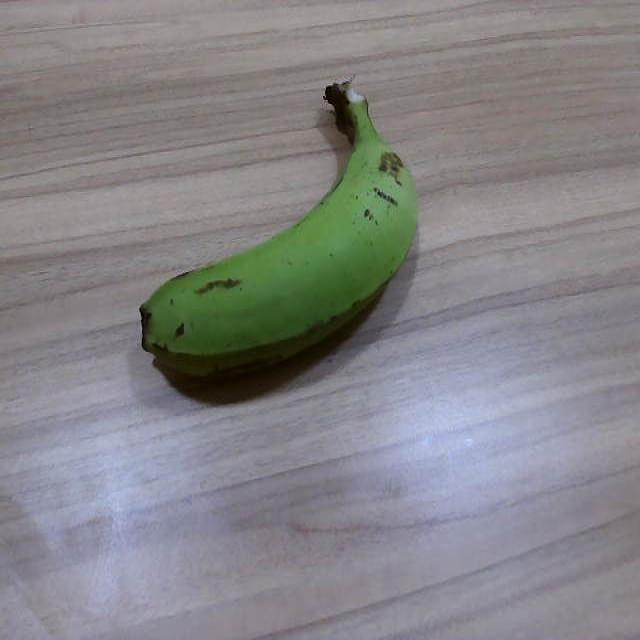Raw: (89, 60, 442, 420)
